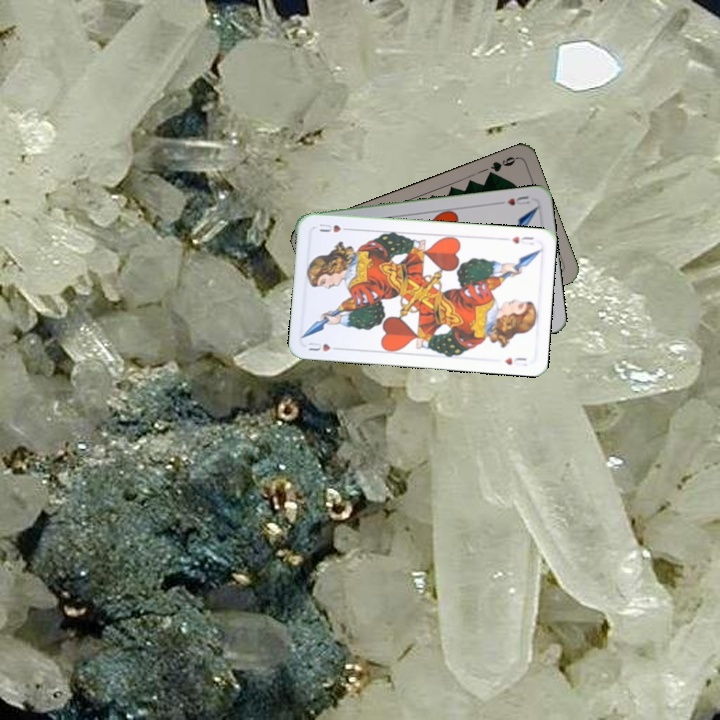G9: (483, 152, 520, 180)
HU: (304, 338, 343, 354), (495, 192, 532, 208), (508, 233, 536, 248)
